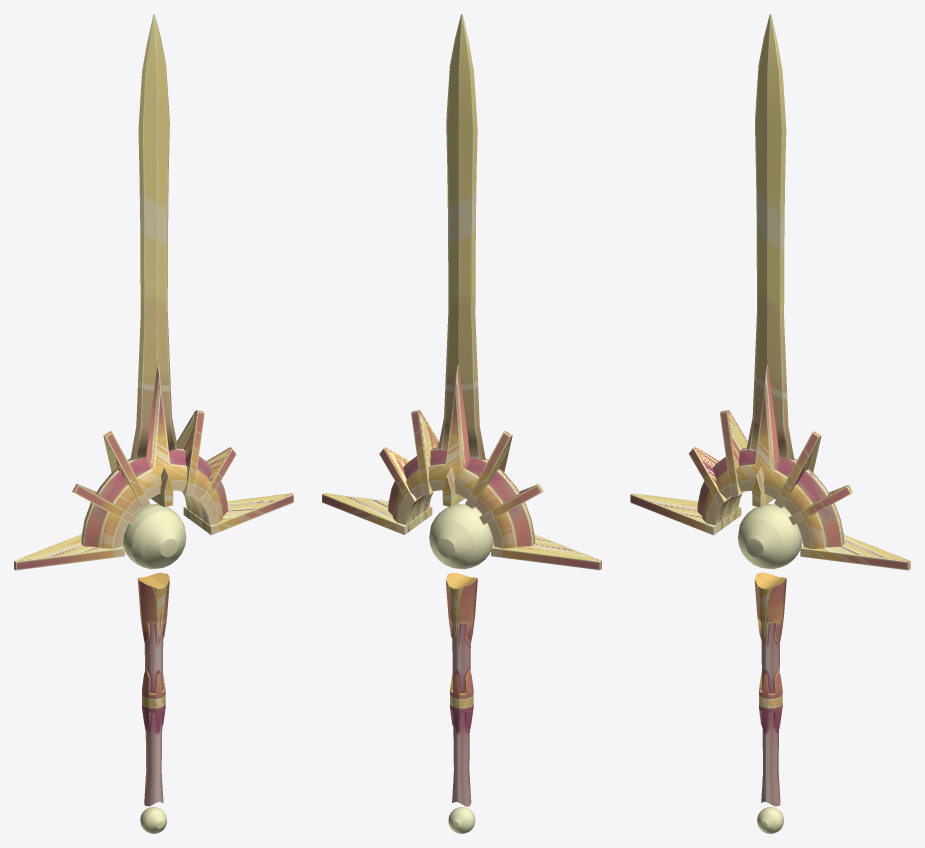
Rendered from GAM0210031.fbx.
3 views of the same model, side by side, from view 1: azimuth 30°, elevation 25°; view 2: azimuth 150°, elevation 25°; view 3: azimuth 330°, elevation 25° (orthographic).
Visible parts, largest first — view 1: smGAM0210031; view 2: smGAM0210031; view 3: smGAM0210031.
Part boxes in pixels (x1,y1,x2,y2): smGAM0210031: (14, 14, 293, 833); smGAM0210031: (322, 14, 601, 833); smGAM0210031: (630, 14, 910, 833).
Size of the model in its own units: 37.4 by 105 by 7.29.
Materials: 1 (1 with a texture image).
